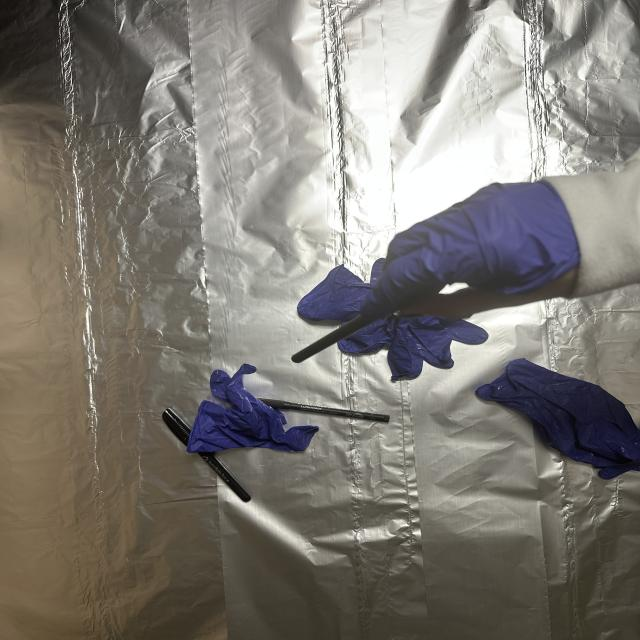glove_partial: (362, 175, 589, 328)
